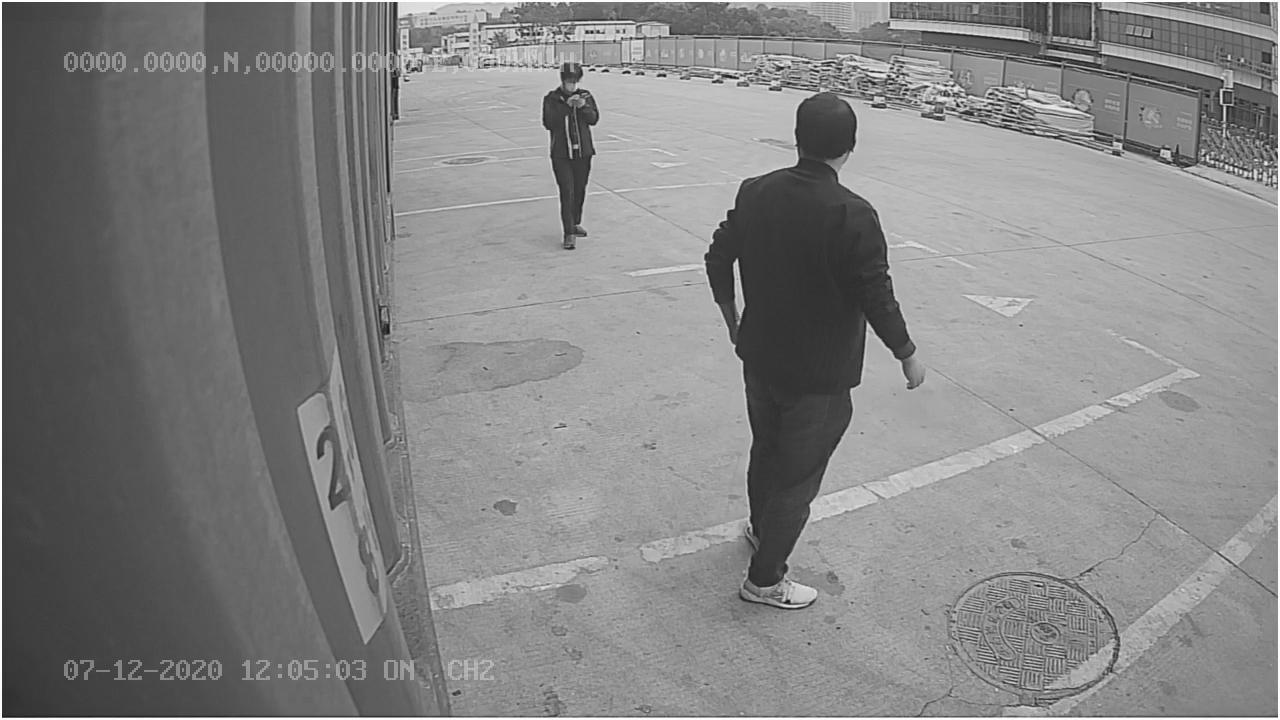person: (702, 88, 932, 612)
